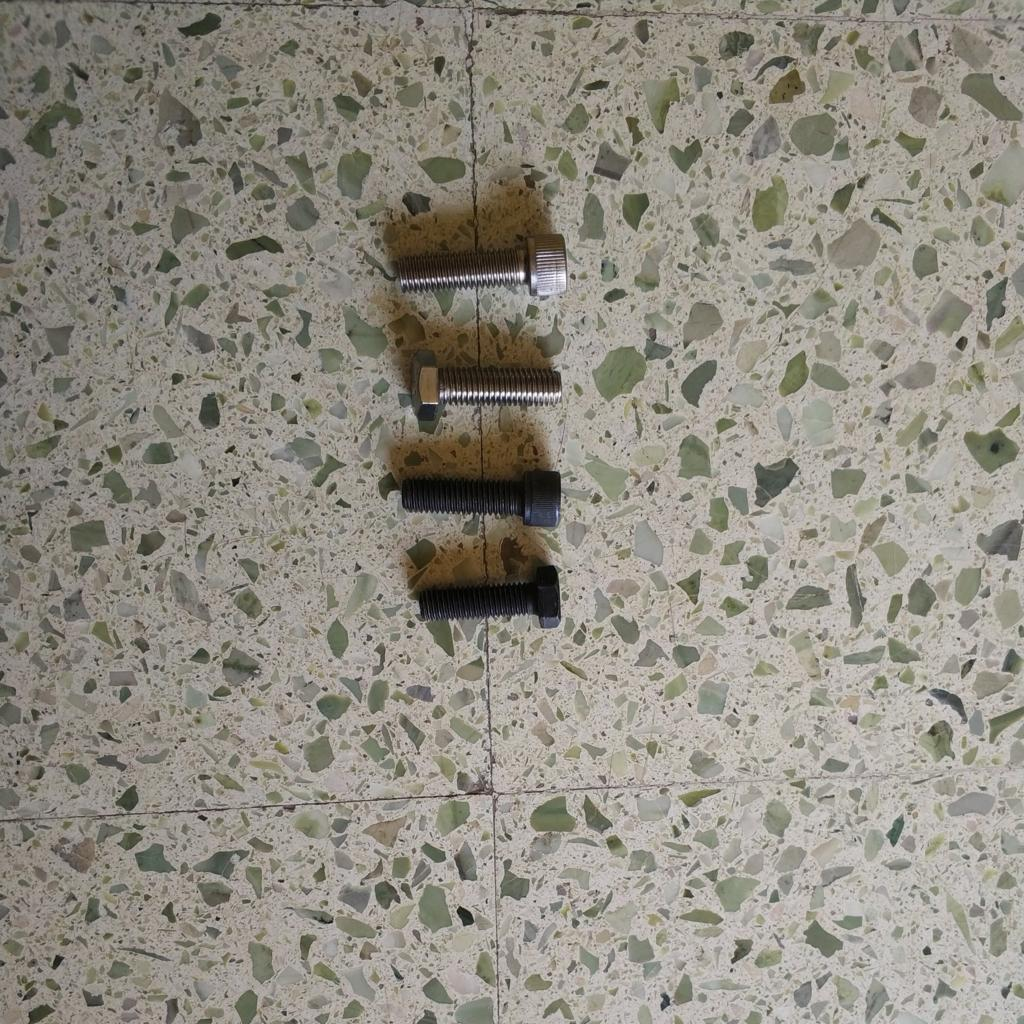screwtype1black: (398, 465, 566, 531)
screwtype1silver: (391, 232, 572, 300)
screwtype2black: (405, 564, 565, 636)
screwtype2silver: (402, 344, 569, 425)
